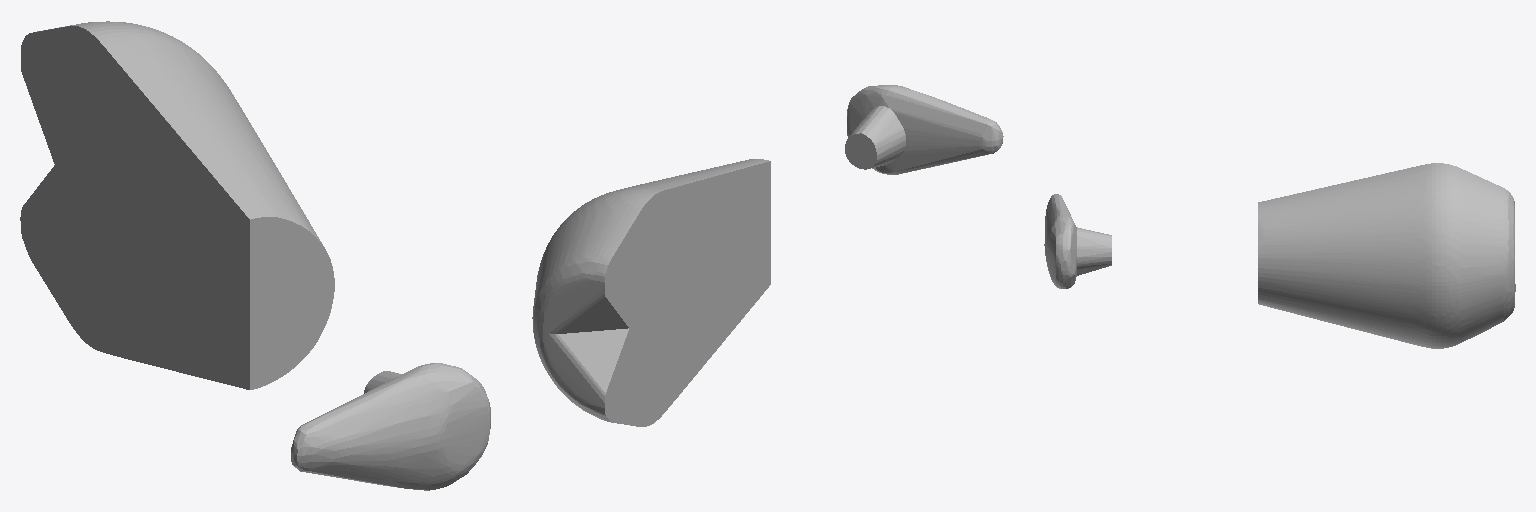
robot.urdf — root:
<robot name="root">
  <link name="link_coacd_convex_piece_0">
    <inertial>
      <origin xyz="0 0 0" rpy="0 0 0"/>
      <inertia ixx="9.44E-09" ixy="7.11E-10" ixz="1.46E-11" iyy="6.16E-09" iyz="5.23E-10" izz="9.50E-09"/>
    </inertial>
    <visual>
      <origin xyz="0 0 0" rpy="0 0 0"/>
      <geometry>
        <mesh filename="coacd_convex_piece_0.obj" scale="1.0000E+00 1.0000E+00 1.0000E+00"/>
      </geometry>
      <material name="">
        <color rgba="7.50E-01 7.50E-01 7.50E-01 1"/>
      </material>
    </visual>
    <collision>
      <origin xyz="0 0 0" rpy="0 0 0"/>
      <geometry>
        <mesh filename="coacd_convex_piece_0.obj" scale="1.0000E+00 1.0000E+00 1.0000E+00"/>
      </geometry>
    </collision>
  </link>
  <link name="link_coacd_convex_piece_1">
    <inertial>
      <origin xyz="0 0 0" rpy="0 0 0"/>
      <inertia ixx="5.92E-09" ixy="1.22E-10" ixz="-7.14E-13" iyy="4.00E-11" iyz="7.65E-11" izz="5.91E-09"/>
    </inertial>
    <visual>
      <origin xyz="0 0 0" rpy="0 0 0"/>
      <geometry>
        <mesh filename="coacd_convex_piece_1.obj" scale="1.0000E+00 1.0000E+00 1.0000E+00"/>
      </geometry>
      <material name="">
        <color rgba="7.50E-01 7.50E-01 7.50E-01 1"/>
      </material>
    </visual>
    <collision>
      <origin xyz="0 0 0" rpy="0 0 0"/>
      <geometry>
        <mesh filename="coacd_convex_piece_1.obj" scale="1.0000E+00 1.0000E+00 1.0000E+00"/>
      </geometry>
    </collision>
  </link>
  <joint name="link_coacd_convex_piece_1_joint" type="fixed">
    <origin xyz="0 0 0" rpy="0 0 0"/>
    <parent link="link_coacd_convex_piece_0"/>
    <child link="link_coacd_convex_piece_1"/>
  </joint>
  <link name="link_coacd_convex_piece_2">
    <inertial>
      <origin xyz="0 0 0" rpy="0 0 0"/>
      <inertia ixx="3.43E-08" ixy="-2.62E-09" ixz="1.15E-10" iyy="1.15E-09" iyz="7.16E-10" izz="3.50E-08"/>
    </inertial>
    <visual>
      <origin xyz="0 0 0" rpy="0 0 0"/>
      <geometry>
        <mesh filename="coacd_convex_piece_2.obj" scale="1.0000E+00 1.0000E+00 1.0000E+00"/>
      </geometry>
      <material name="">
        <color rgba="7.50E-01 7.50E-01 7.50E-01 1"/>
      </material>
    </visual>
    <collision>
      <origin xyz="0 0 0" rpy="0 0 0"/>
      <geometry>
        <mesh filename="coacd_convex_piece_2.obj" scale="1.0000E+00 1.0000E+00 1.0000E+00"/>
      </geometry>
    </collision>
  </link>
  <joint name="link_coacd_convex_piece_2_joint" type="fixed">
    <origin xyz="0 0 0" rpy="0 0 0"/>
    <parent link="link_coacd_convex_piece_1"/>
    <child link="link_coacd_convex_piece_2"/>
  </joint>
  <link name="link_coacd_convex_piece_3">
    <inertial>
      <origin xyz="0 0 0" rpy="0 0 0"/>
      <inertia ixx="8.74E-08" ixy="2.91E-08" ixz="-7.40E-09" iyy="2.28E-08" iyz="2.94E-08" izz="8.73E-08"/>
    </inertial>
    <visual>
      <origin xyz="0 0 0" rpy="0 0 0"/>
      <geometry>
        <mesh filename="coacd_convex_piece_3.obj" scale="1.0000E+00 1.0000E+00 1.0000E+00"/>
      </geometry>
      <material name="">
        <color rgba="7.50E-01 7.50E-01 7.50E-01 1"/>
      </material>
    </visual>
    <collision>
      <origin xyz="0 0 0" rpy="0 0 0"/>
      <geometry>
        <mesh filename="coacd_convex_piece_3.obj" scale="1.0000E+00 1.0000E+00 1.0000E+00"/>
      </geometry>
    </collision>
  </link>
  <joint name="link_coacd_convex_piece_3_joint" type="fixed">
    <origin xyz="0 0 0" rpy="0 0 0"/>
    <parent link="link_coacd_convex_piece_2"/>
    <child link="link_coacd_convex_piece_3"/>
  </joint>
  <link name="link_coacd_convex_piece_4">
    <inertial>
      <origin xyz="0 0 0" rpy="0 0 0"/>
      <inertia ixx="9.10E-08" ixy="3.07E-08" ixz="7.54E-09" iyy="2.38E-08" iyz="-2.94E-08" izz="9.14E-08"/>
    </inertial>
    <visual>
      <origin xyz="0 0 0" rpy="0 0 0"/>
      <geometry>
        <mesh filename="coacd_convex_piece_4.obj" scale="1.0000E+00 1.0000E+00 1.0000E+00"/>
      </geometry>
      <material name="">
        <color rgba="7.50E-01 7.50E-01 7.50E-01 1"/>
      </material>
    </visual>
    <collision>
      <origin xyz="0 0 0" rpy="0 0 0"/>
      <geometry>
        <mesh filename="coacd_convex_piece_4.obj" scale="1.0000E+00 1.0000E+00 1.0000E+00"/>
      </geometry>
    </collision>
  </link>
  <joint name="link_coacd_convex_piece_4_joint" type="fixed">
    <origin xyz="0 0 0" rpy="0 0 0"/>
    <parent link="link_coacd_convex_piece_3"/>
    <child link="link_coacd_convex_piece_4"/>
  </joint>
  <link name="link_coacd_convex_piece_5">
    <inertial>
      <origin xyz="0 0 0" rpy="0 0 0"/>
      <inertia ixx="9.23E-08" ixy="-3.03E-08" ixz="-7.53E-09" iyy="2.41E-08" iyz="-3.01E-08" izz="9.24E-08"/>
    </inertial>
    <visual>
      <origin xyz="0 0 0" rpy="0 0 0"/>
      <geometry>
        <mesh filename="coacd_convex_piece_5.obj" scale="1.0000E+00 1.0000E+00 1.0000E+00"/>
      </geometry>
      <material name="">
        <color rgba="7.50E-01 7.50E-01 7.50E-01 1"/>
      </material>
    </visual>
    <collision>
      <origin xyz="0 0 0" rpy="0 0 0"/>
      <geometry>
        <mesh filename="coacd_convex_piece_5.obj" scale="1.0000E+00 1.0000E+00 1.0000E+00"/>
      </geometry>
    </collision>
  </link>
  <joint name="link_coacd_convex_piece_5_joint" type="fixed">
    <origin xyz="0 0 0" rpy="0 0 0"/>
    <parent link="link_coacd_convex_piece_4"/>
    <child link="link_coacd_convex_piece_5"/>
  </joint>
  <link name="link_coacd_convex_piece_6">
    <inertial>
      <origin xyz="0 0 0" rpy="0 0 0"/>
      <inertia ixx="9.07E-08" ixy="-2.96E-08" ixz="7.58E-09" iyy="2.37E-08" iyz="3.05E-08" izz="9.04E-08"/>
    </inertial>
    <visual>
      <origin xyz="0 0 0" rpy="0 0 0"/>
      <geometry>
        <mesh filename="coacd_convex_piece_6.obj" scale="1.0000E+00 1.0000E+00 1.0000E+00"/>
      </geometry>
      <material name="">
        <color rgba="7.50E-01 7.50E-01 7.50E-01 1"/>
      </material>
    </visual>
    <collision>
      <origin xyz="0 0 0" rpy="0 0 0"/>
      <geometry>
        <mesh filename="coacd_convex_piece_6.obj" scale="1.0000E+00 1.0000E+00 1.0000E+00"/>
      </geometry>
    </collision>
  </link>
  <joint name="link_coacd_convex_piece_6_joint" type="fixed">
    <origin xyz="0 0 0" rpy="0 0 0"/>
    <parent link="link_coacd_convex_piece_5"/>
    <child link="link_coacd_convex_piece_6"/>
  </joint>
</robot>

--- Facts derived from the render (not from the file) ---
The picture shows the robot from 3 angles, left to right: view 1: azimuth 30°, elevation 25°; view 2: azimuth 150°, elevation 25°; view 3: azimuth 270°, elevation 25°; orthographic projection.
Model root with 7 links and 6 joints (6 fixed), rooted at link_coacd_convex_piece_0, posed all joints at 0.
Links seen in each view (by area): view 1: link_coacd_convex_piece_5, link_coacd_convex_piece_6, link_coacd_convex_piece_2; view 2: link_coacd_convex_piece_5, link_coacd_convex_piece_6, link_coacd_convex_piece_2, link_coacd_convex_piece_1; view 3: link_coacd_convex_piece_5, link_coacd_convex_piece_6, link_coacd_convex_piece_2, link_coacd_convex_piece_1.
Link boxes in pixels (x1,y1,x2,y2): link_coacd_convex_piece_5: [21, 21, 334, 307]; link_coacd_convex_piece_6: [20, 165, 334, 389]; link_coacd_convex_piece_2: [291, 363, 490, 490]; link_coacd_convex_piece_5: [532, 159, 770, 333]; link_coacd_convex_piece_6: [533, 225, 770, 426]; link_coacd_convex_piece_2: [847, 85, 1003, 174]; link_coacd_convex_piece_1: [845, 106, 905, 169]; link_coacd_convex_piece_5: [1258, 163, 1514, 292]; link_coacd_convex_piece_6: [1258, 275, 1515, 348]; link_coacd_convex_piece_2: [1044, 194, 1076, 288]; link_coacd_convex_piece_1: [1077, 227, 1111, 275].
Size in the robot's own frame: 0.0675 by 0.1698 by 0.0701 metres.
4 mesh visuals loaded from 7 distinct referenced files (4 OBJ); not drawn: 3 (reference not matched to a file when rendering).